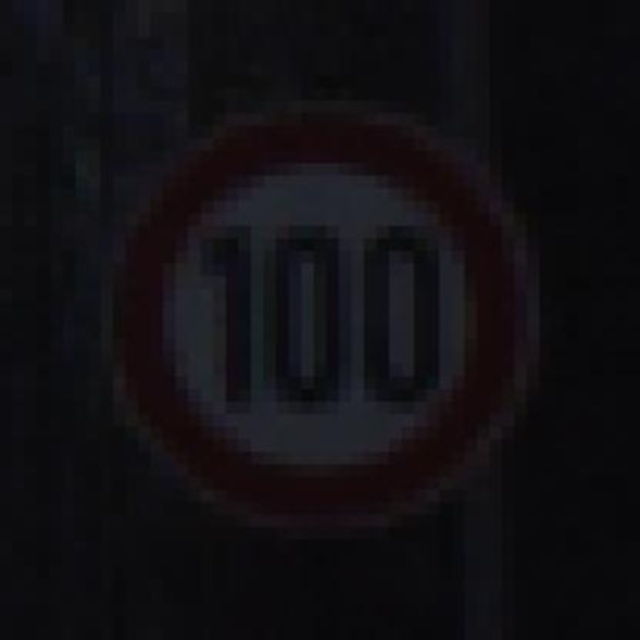Tốc độ tối đa cho phép 100km/h: (113, 116, 527, 524)
